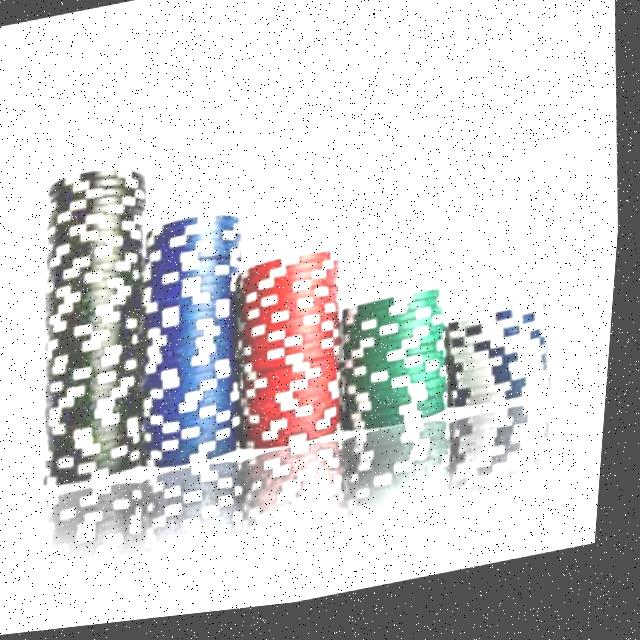Chip: (16, 157, 184, 500), (130, 202, 275, 481), (230, 246, 368, 466), (333, 288, 468, 451), (441, 304, 571, 431)
